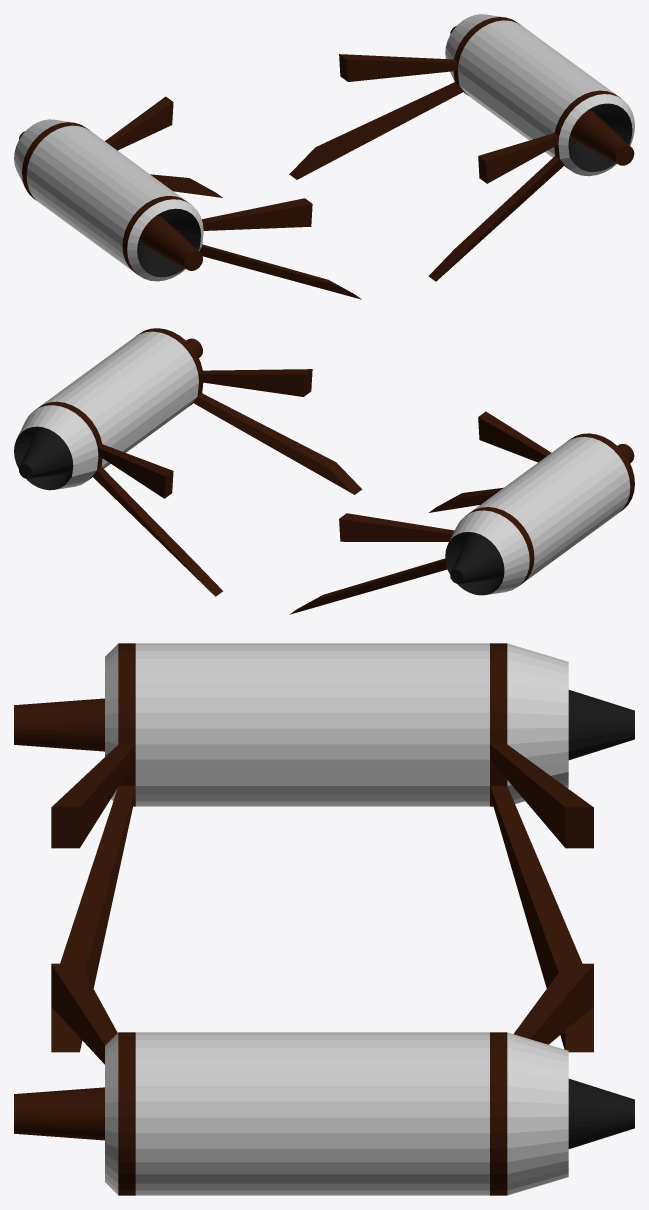
File: engine.obj
3 views of the same model, one above another, from view 1: azimuth 30°, elevation 25°; view 2: azimuth 150°, elevation 25°; view 3: azimuth 270°, elevation 25° (orthographic). The views are drawn at different scales.
Parts seen in each view (by area): view 1: Cylinder.001; view 2: Cylinder.001; view 3: Cylinder.001.
Part boxes in pixels (box(x1,y1,x2,y2)): Cylinder.001: box(14, 14, 634, 299); Cylinder.001: box(14, 328, 634, 614); Cylinder.001: box(14, 643, 634, 1195).
Size of the model in its own units: 3.58 by 0.8742 by 2.05.
